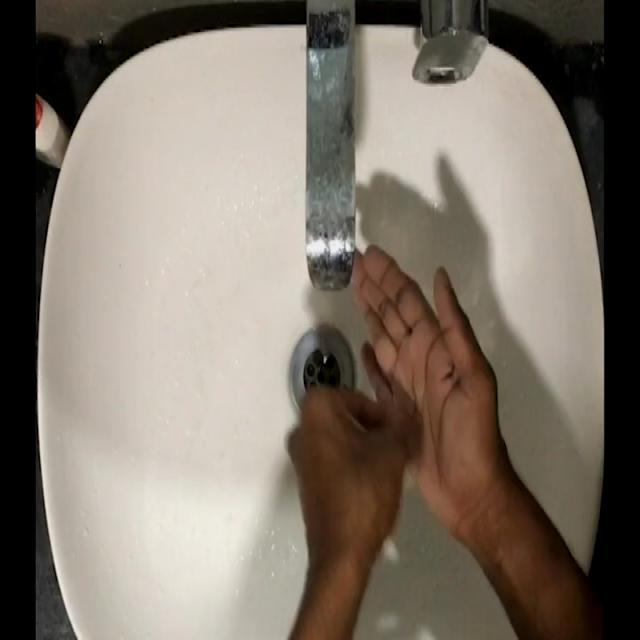step_6: (277, 238, 503, 568)
